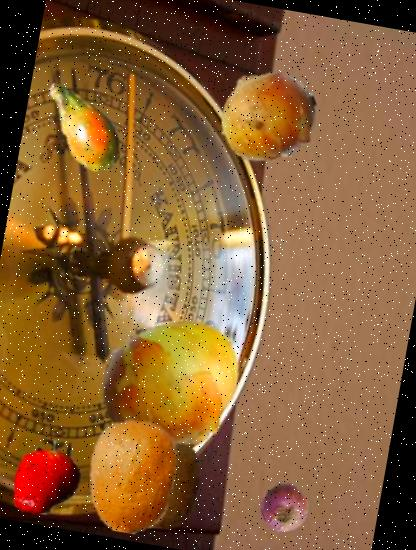Cactus: (26, 65, 144, 183)
Kiwi: (63, 407, 200, 544), (112, 429, 220, 536)
Onion: (90, 300, 257, 467), (210, 59, 326, 175), (254, 479, 314, 538)
Strawberry: (4, 432, 92, 522)
